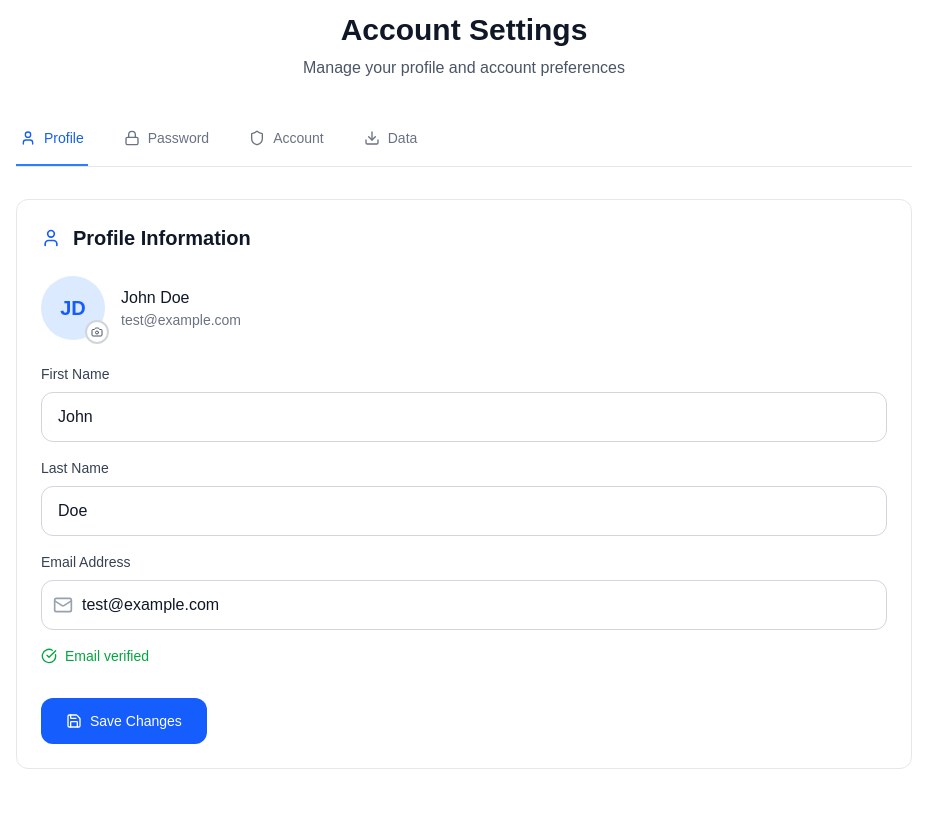
Test: ProfileManagement › Profile Tab › validates email format
The image size is (929, 814).
// Enter invalid email
Replace the text in the field showing "test@example.com" with "invalid-email" at (464, 605), box [41,580,887,630]
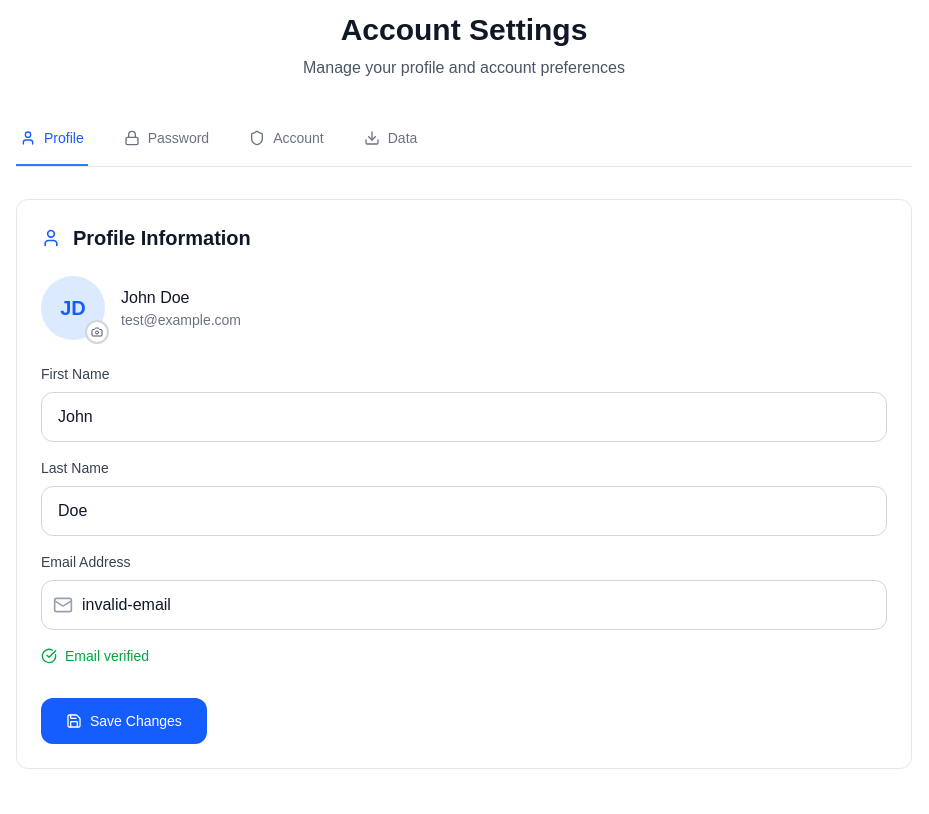
// Try to save
Click the button "Save Changes" at (124, 721), box [41,698,207,744]
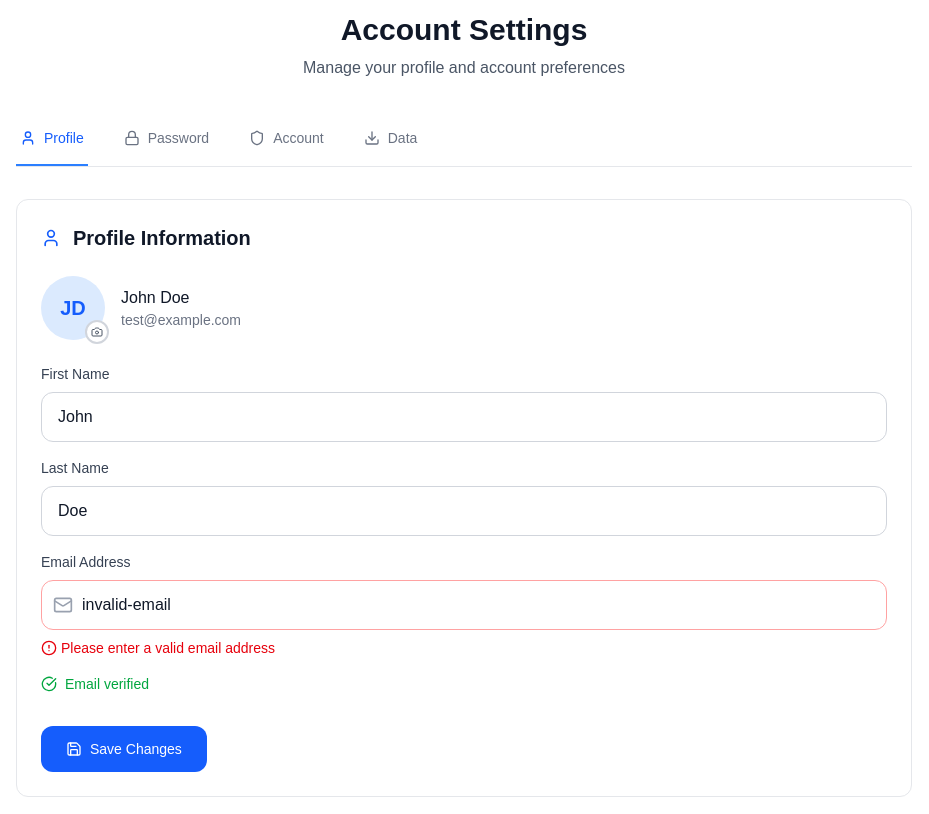
Result: the text "Please enter a valid email address" is shown at [41,640,275,656]
